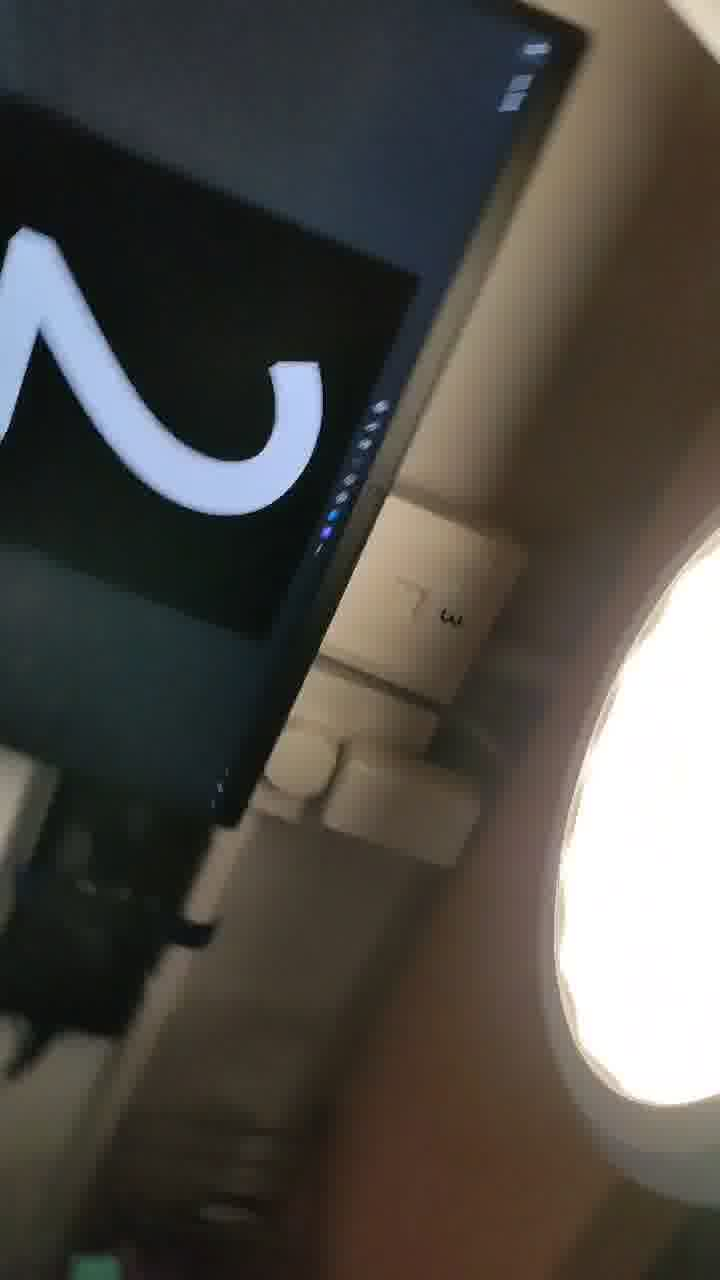two: (2, 173, 333, 675)
